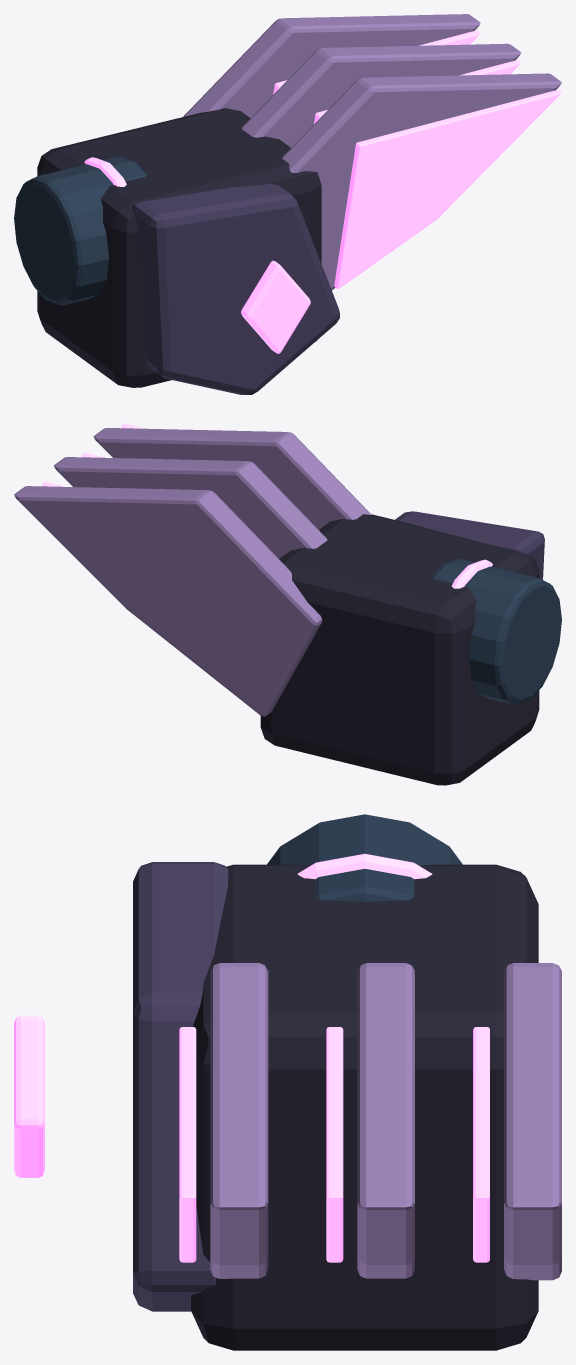
File: phase_talon.glb
3 views of the same model, one above another, from view 1: azimuth 30°, elevation 25°; view 2: azimuth 150°, elevation 25°; view 3: azimuth 270°, elevation 25° (orthographic). The views are drawn at different scales.
Visible parts, largest first — view 1: ModuleArmor; view 2: ModuleArmor; view 3: ModuleArmor.
Boxes of the visible parts, x1,y1,x2,y2 form: ModuleArmor: [14, 14, 561, 394]; ModuleArmor: [14, 423, 561, 785]; ModuleArmor: [14, 814, 561, 1350].
Bounding box in the file's own units: 1.29 × 0.6722 × 0.709.
